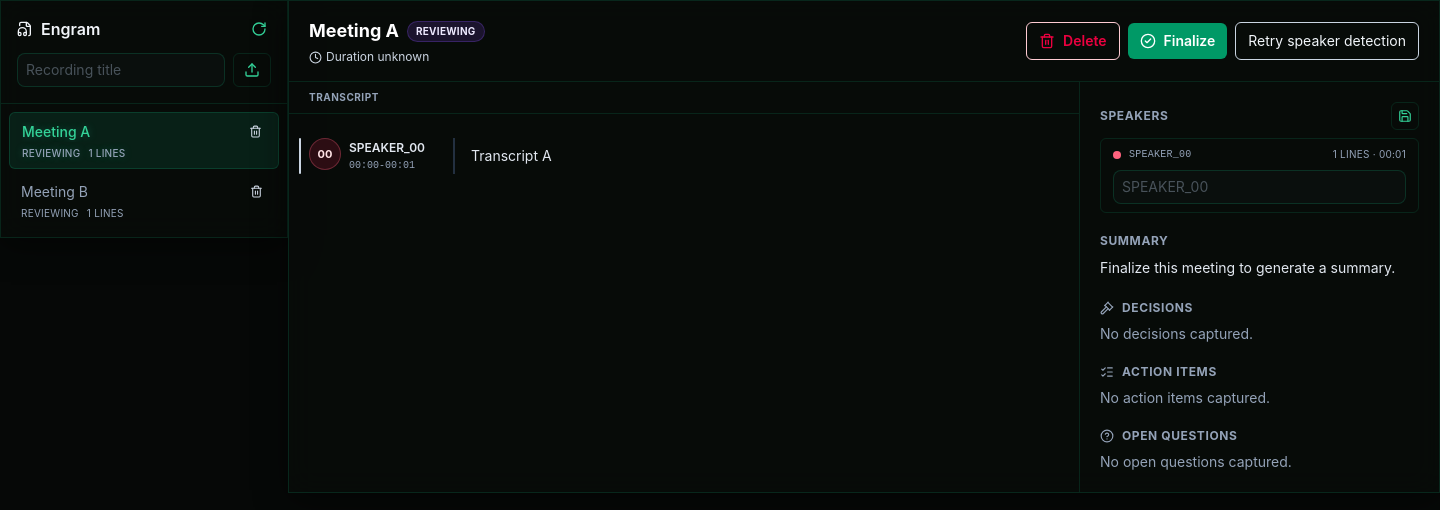
Test: stops the finalize sequence when selection changes while speaker names save
Check: the heading "Meeting A" is shown, box [309,17,399,45]
Click the button "Finalize": point(1177, 41) [1128,23,1227,59]
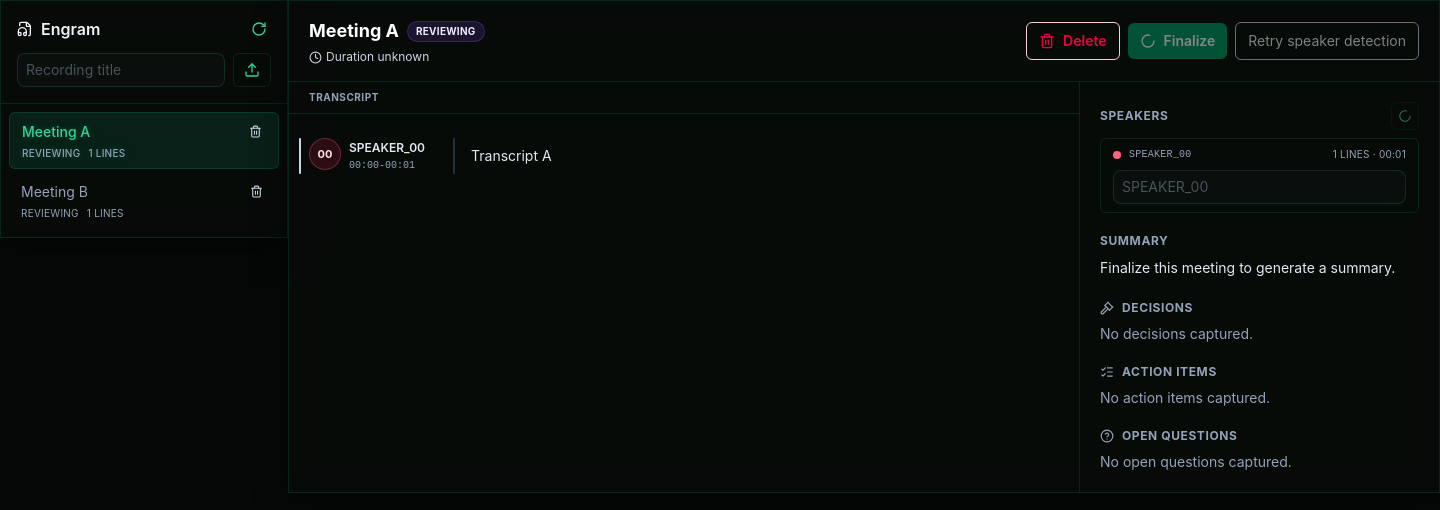
Click the button "Meeting B reviewing 1 lines": point(54, 191) [9,173,279,229]
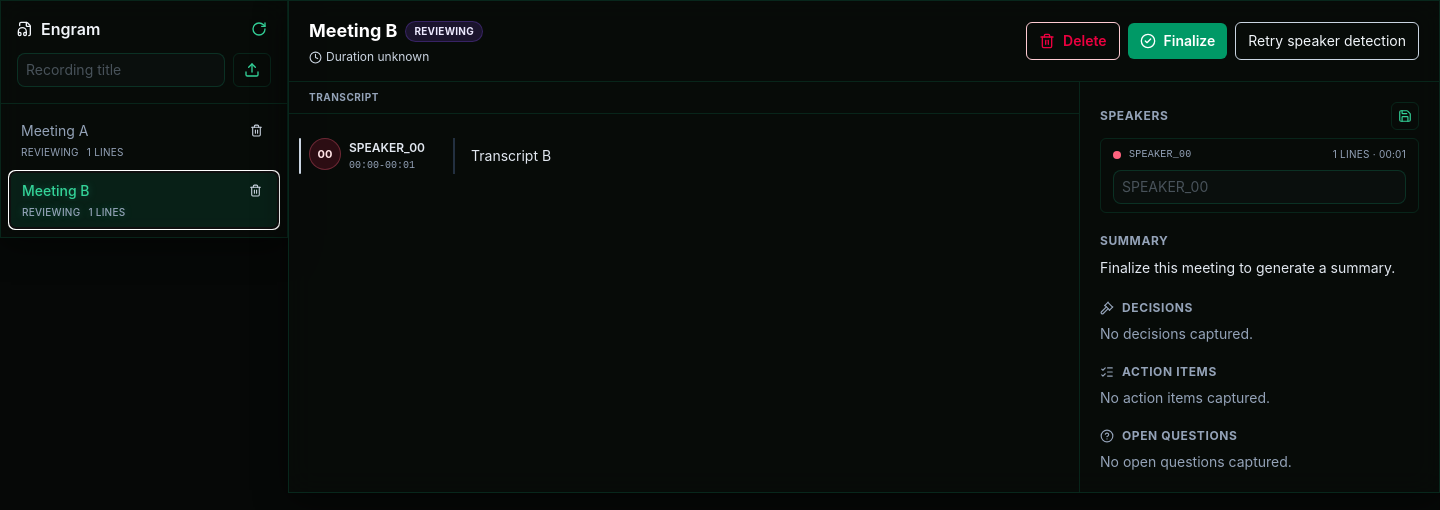
Check: the heading "Meeting B" is shown, box [309,17,397,45]
Check: the button "Finalize" is enabled, box [1128,23,1227,59]
